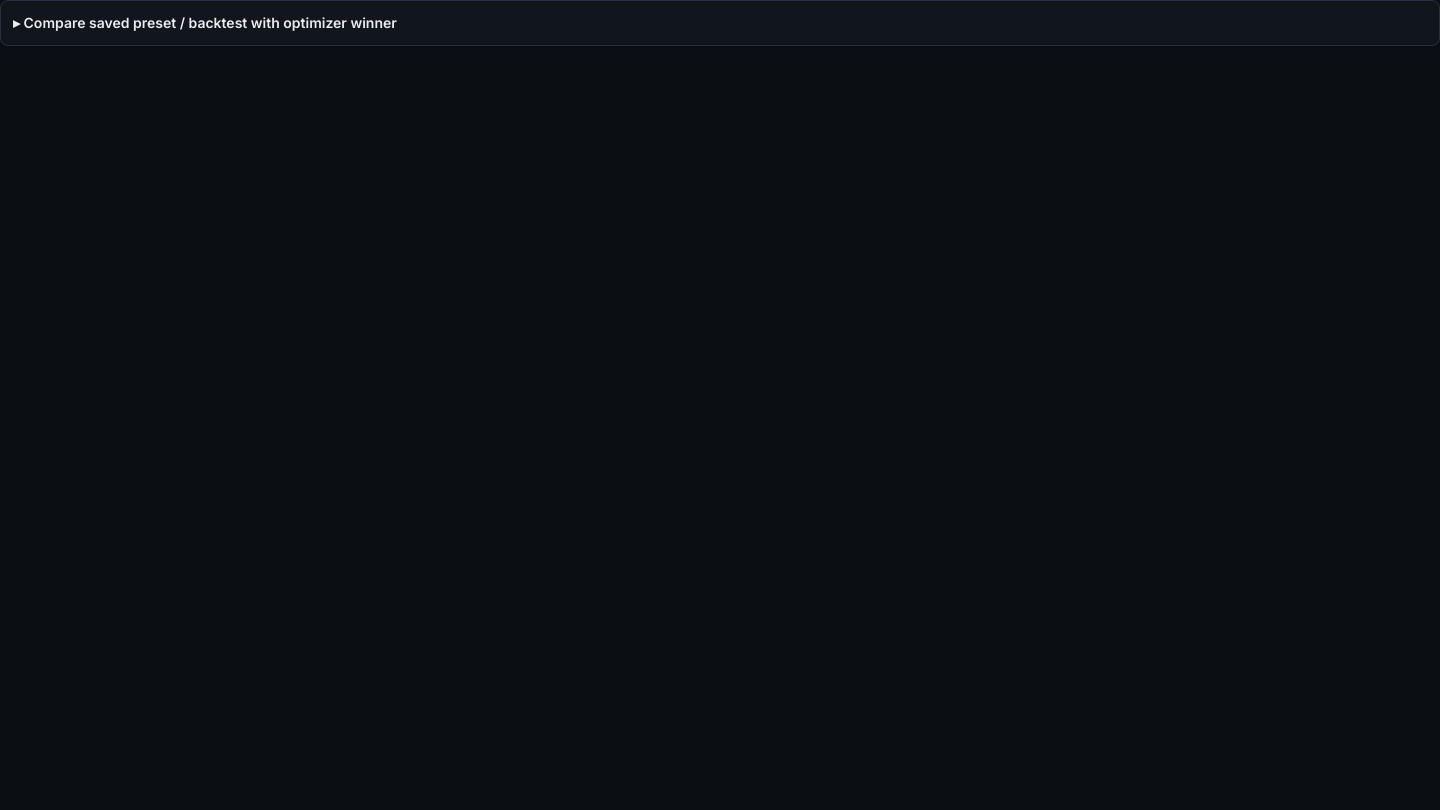
Test: switching source hides the old result and ignores a late first read
Click the button "▸ Compare saved preset / backtest with optimizer winner". click: (208, 22)
box: [1,1,1439,45]
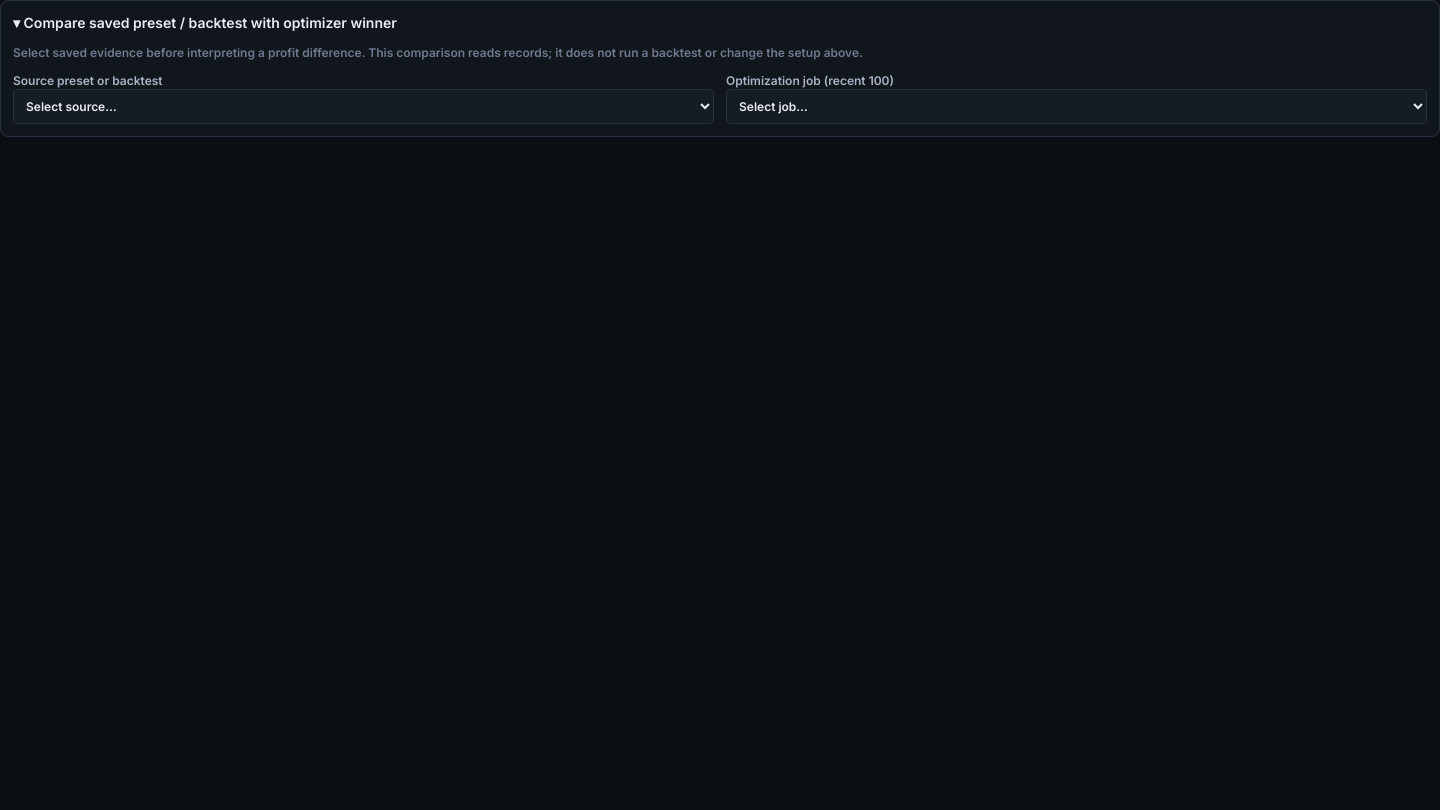
Select "first · first" in the dropdown labelled "Source preset or backtest". click: (364, 106)
box: [13,89,714,124]
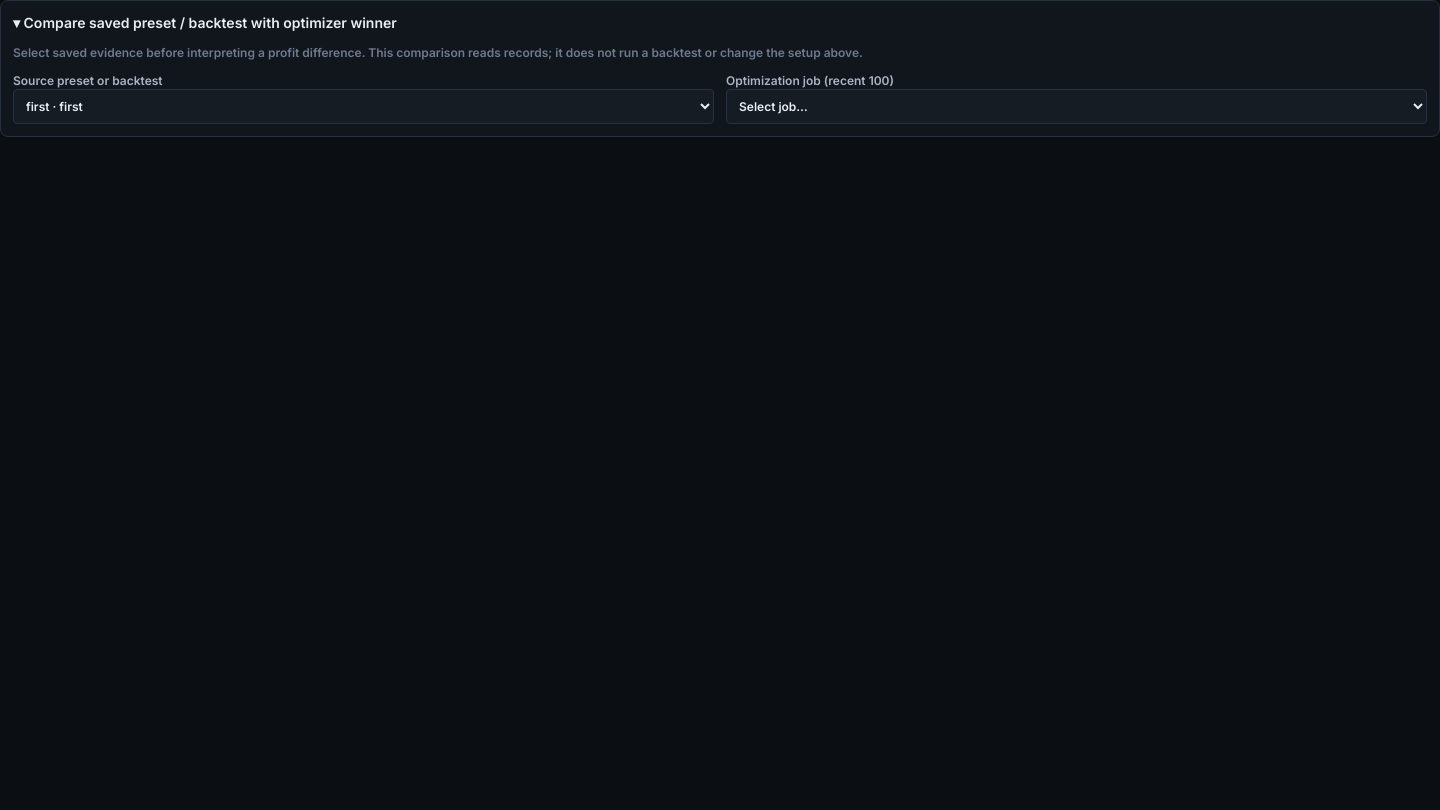
Select "Saved job · done · job" in the dropdown labelled "Optimization job (recent 100)". click: (1076, 106)
box: [726,89,1427,124]
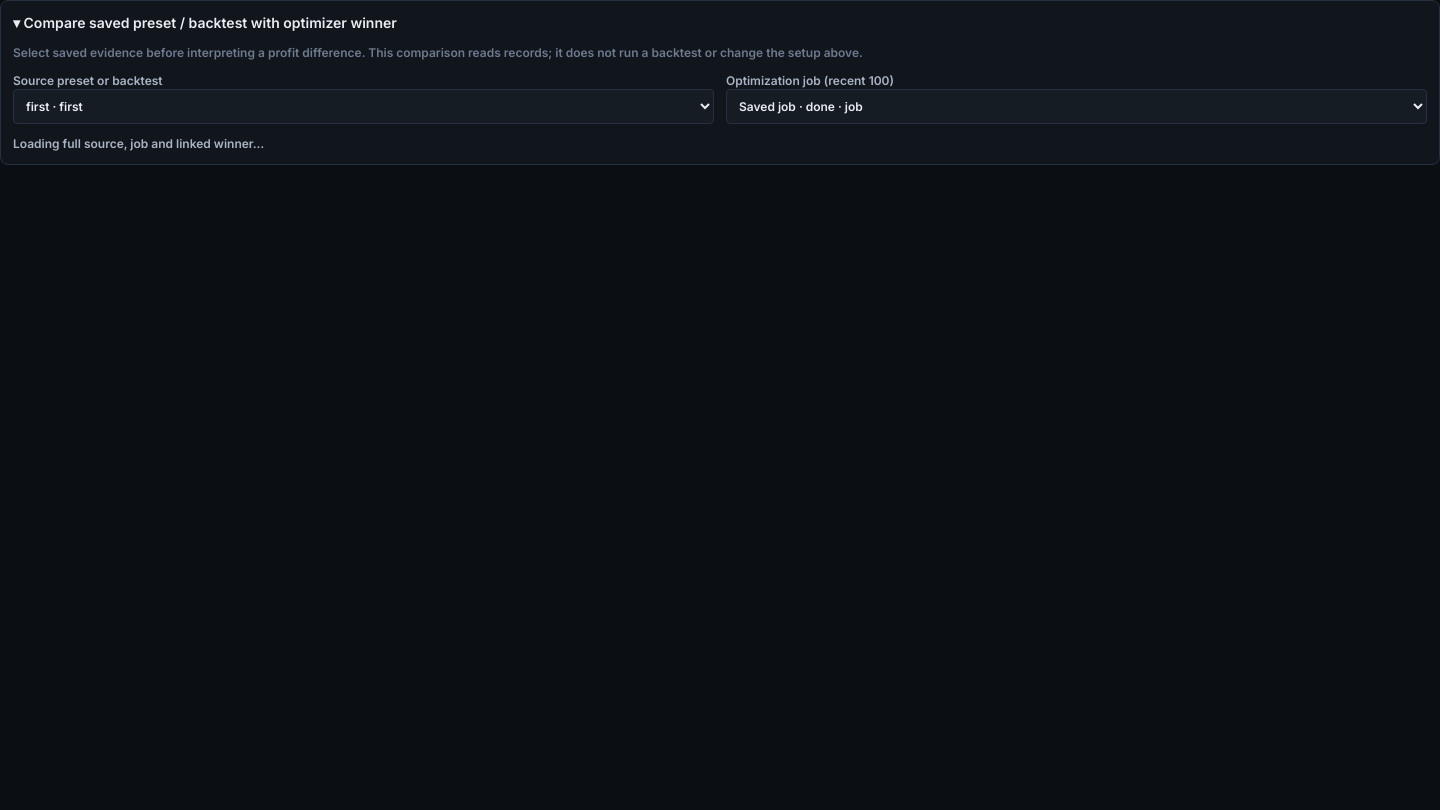
Select "second · second" in the dropdown labelled "Source preset or backtest". click: (364, 106)
box: [13,89,714,124]
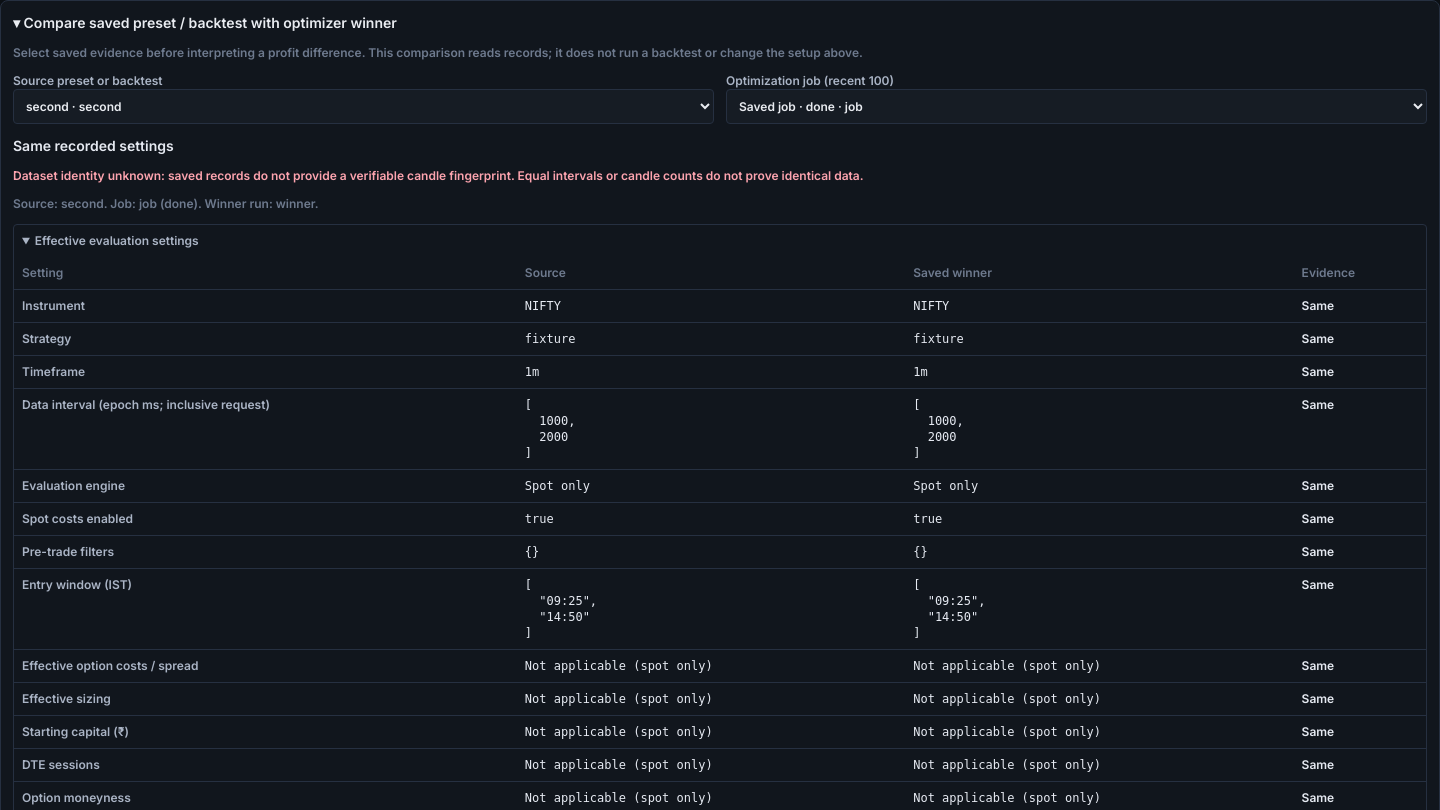
Result: the text "Source: second." is shown at [13,196,319,211]
